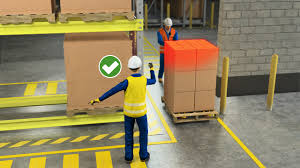Pallet Jack: (160, 41, 219, 126)
